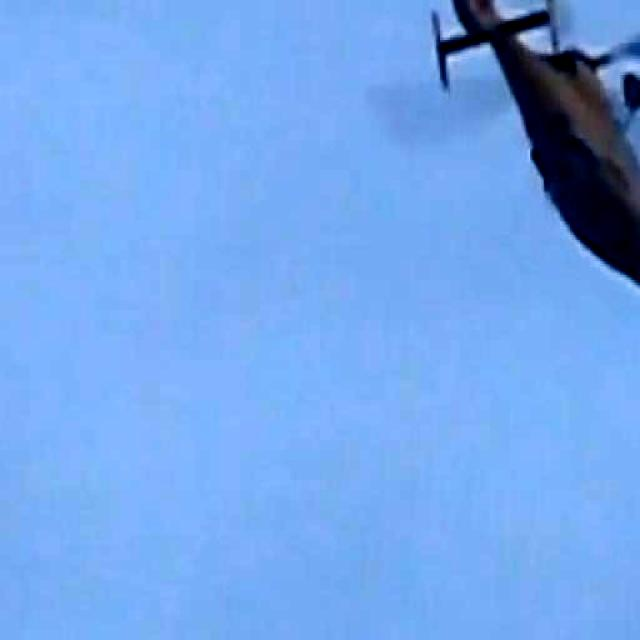drone: (369, 0, 640, 308)
